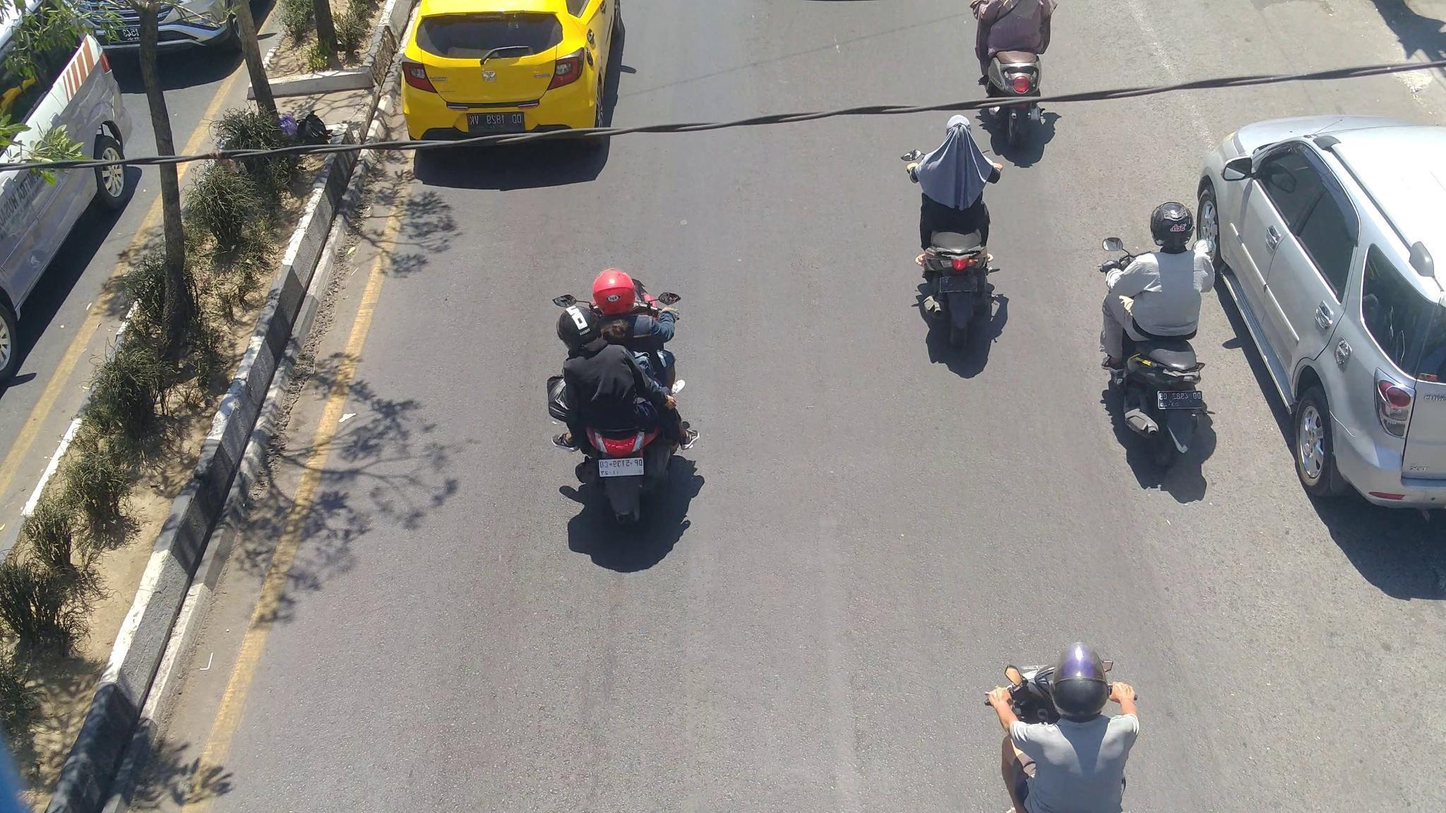Helmet: (1045, 634, 1114, 727), (587, 263, 644, 320), (1146, 196, 1200, 250), (549, 303, 608, 352)
bike: (552, 285, 699, 531), (1100, 233, 1220, 463), (898, 137, 1011, 346), (974, 1, 1055, 131)
no-helmet: (939, 112, 982, 149)
number-plate: (1152, 385, 1208, 415), (596, 458, 646, 477)
rider: (983, 636, 1149, 813), (559, 301, 702, 459), (1099, 196, 1216, 374), (904, 116, 1003, 273), (588, 264, 691, 393)
